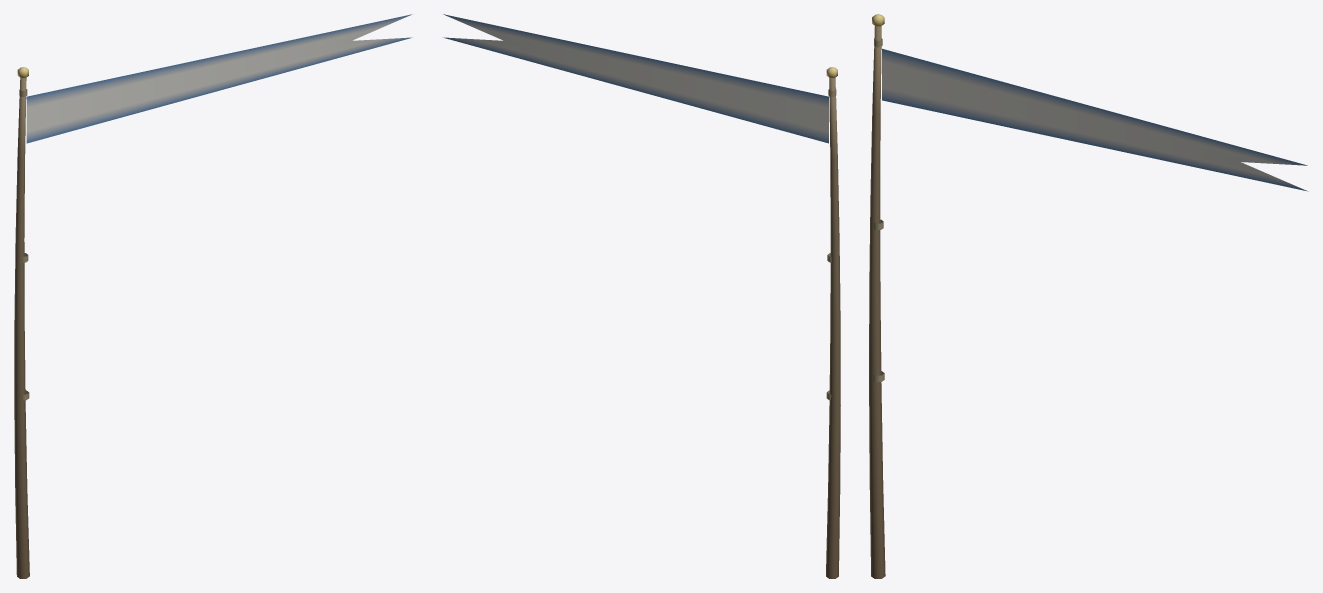
The model's file is pennant_white.glb.
3 views of the same model, side by side, from view 1: azimuth 30°, elevation 25°; view 2: azimuth 150°, elevation 25°; view 3: azimuth 330°, elevation 25° (orthographic). The views are drawn at different scales.
Parts seen in each view (by area): view 1: pennant_white; view 2: pennant_white; view 3: pennant_white.
Boxes of the visible parts, <box> form: pennant_white: <box>14,14,411,578</box>; pennant_white: <box>442,14,840,578</box>; pennant_white: <box>869,14,1308,578</box>.
Bounding box in the file's own units: 8.43 × 10.32 × 0.24.
